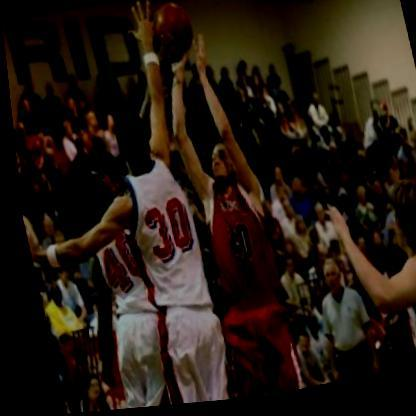basketball: (138, 0, 199, 61)
